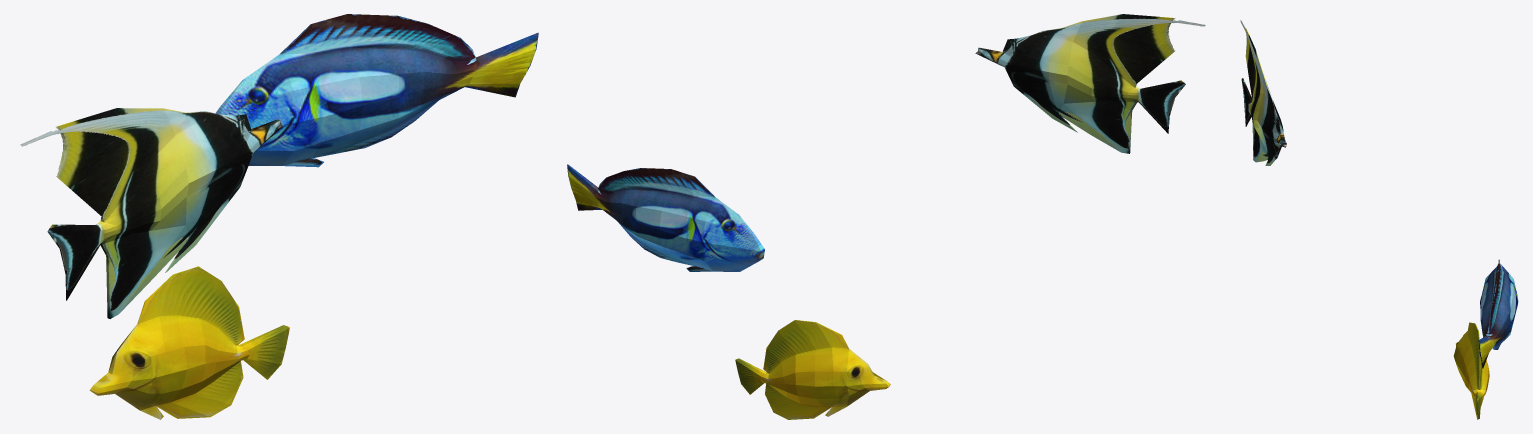
3 renders of one model, left to right at view 1: azimuth 30°, elevation 25°; view 2: azimuth 150°, elevation 25°; view 3: azimuth 270°, elevation 25°, orthographic. The views are drawn at different scales.
Visible parts, largest first — view 1: yu_1, yu_2_2, yu_2, yu_2_2.001, yu_2.001, yu_1.001; view 2: yu_2_2, yu_1, yu_2, yu_2_2.001; view 3: yu_1, yu_2_2, yu_2, yu_2_2.001.
Part boxes in pixels (bbox=[...]): yu_1: bbox=[215, 14, 538, 165]; yu_2_2: bbox=[20, 110, 282, 311]; yu_2: bbox=[90, 268, 288, 419]; yu_2_2.001: bbox=[50, 108, 282, 318]; yu_2.001: bbox=[89, 266, 289, 419]; yu_1.001: bbox=[248, 14, 538, 167]; yu_2_2: bbox=[976, 18, 1205, 148]; yu_1: bbox=[567, 165, 764, 271]; yu_2: bbox=[736, 321, 890, 418]; yu_2_2.001: bbox=[975, 14, 1183, 153]; yu_1: bbox=[1478, 259, 1518, 367]; yu_2_2: bbox=[1240, 20, 1286, 163]; yu_2: bbox=[1453, 323, 1489, 417]; yu_2_2.001: bbox=[1242, 28, 1286, 165].
Bounding box in the file's own units: 910 × 628 × 542.
6 materials, 6 textured.
